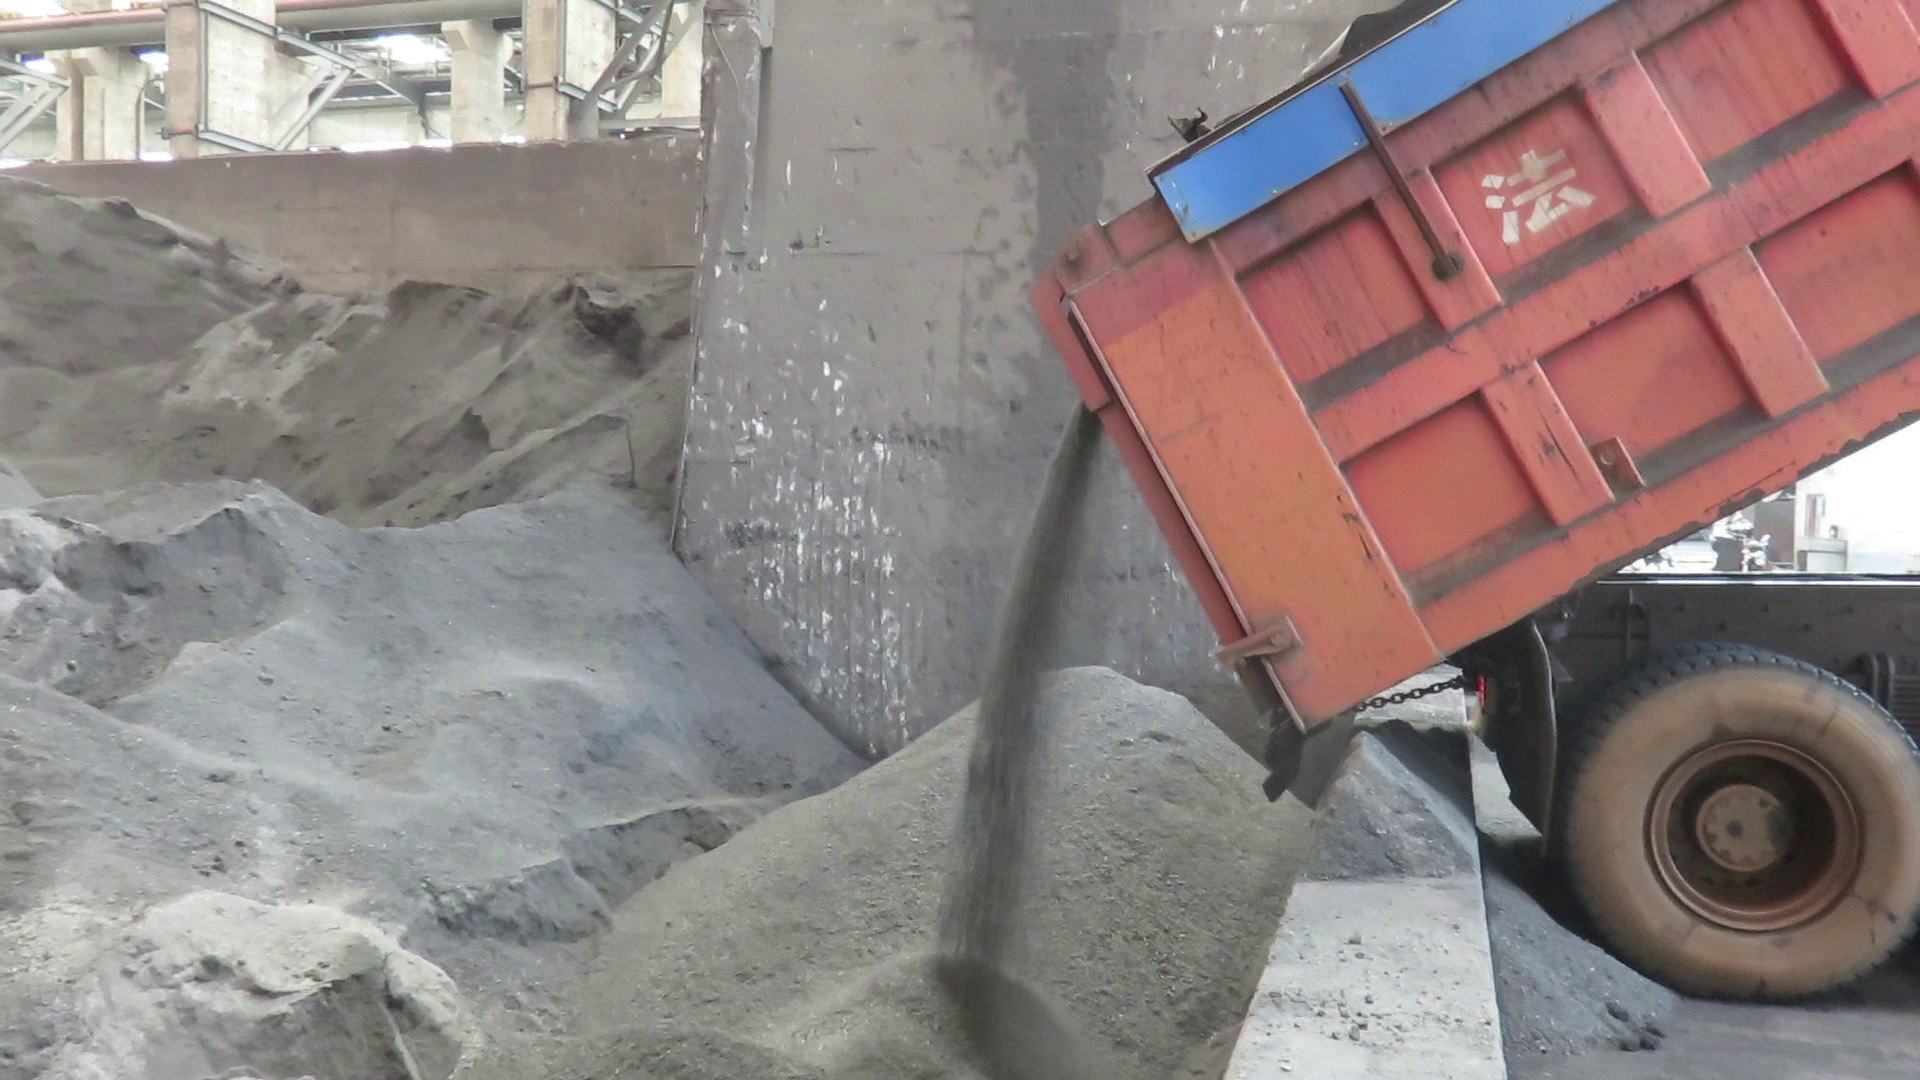truck: (1007, 0, 1919, 1015)
